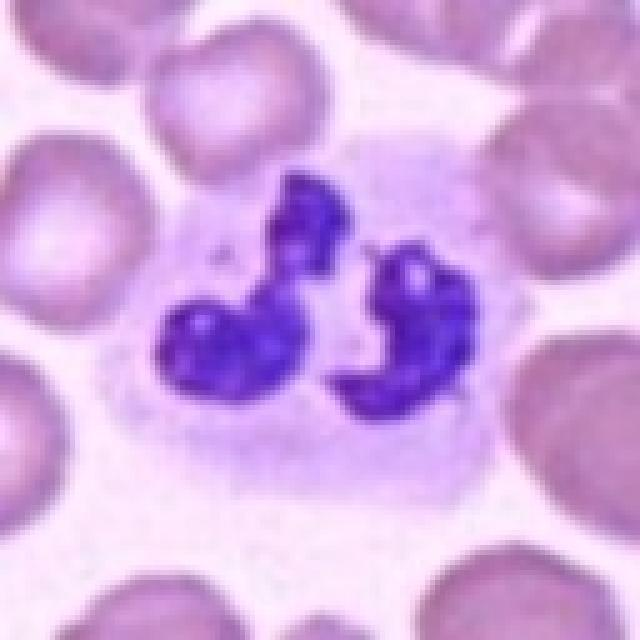neutro: (139, 77, 506, 530)
